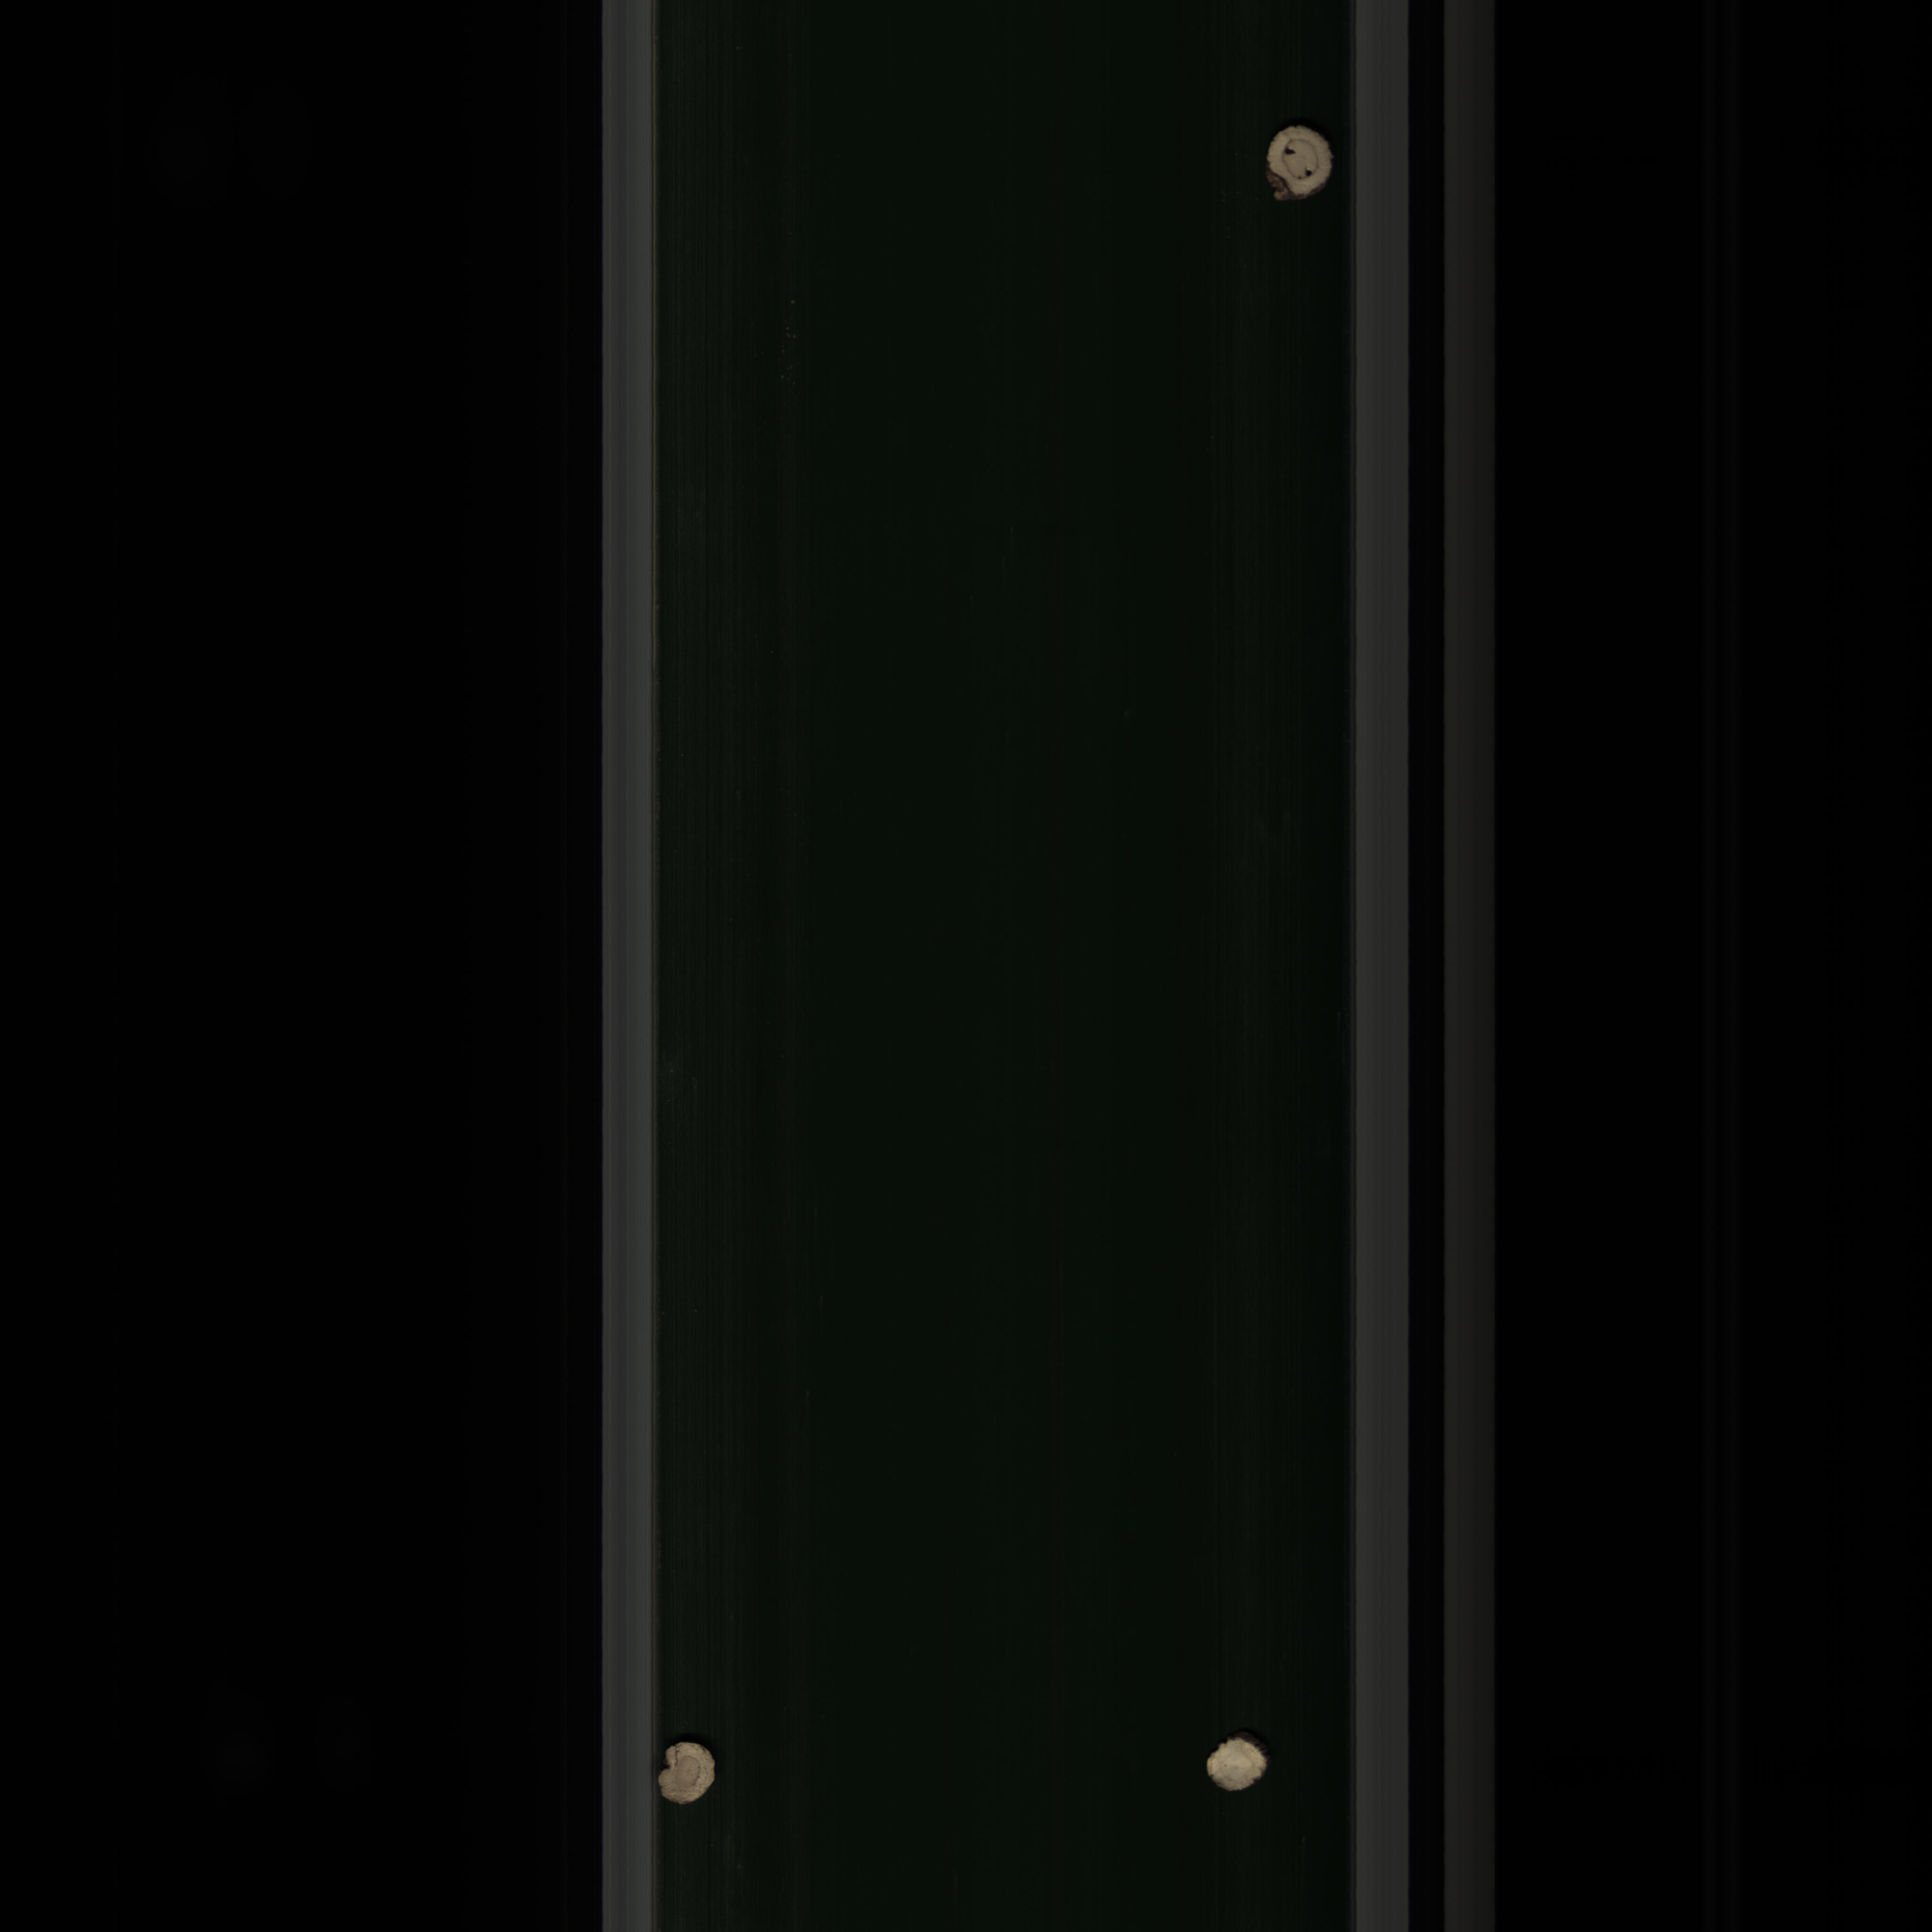distortion: (648, 1725, 725, 1812)
hole: (1253, 115, 1339, 209)
